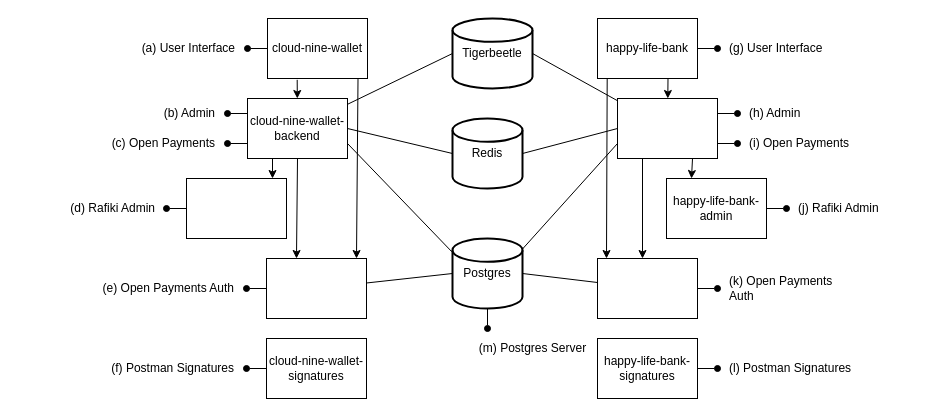
This 943x416 diagram has some shape labels left out. Here are the shapes that lost their labels. From the top down, the centre of each, then its label:
At pixel 667 128: "happy-life-bank-backend".
At pixel 236 208: "cloud-nine-wallet-admin".
At pixel 316 288: "cloud-nine-wallet-auth".
At pixel 647 288: "happy-life-bank-auth".
